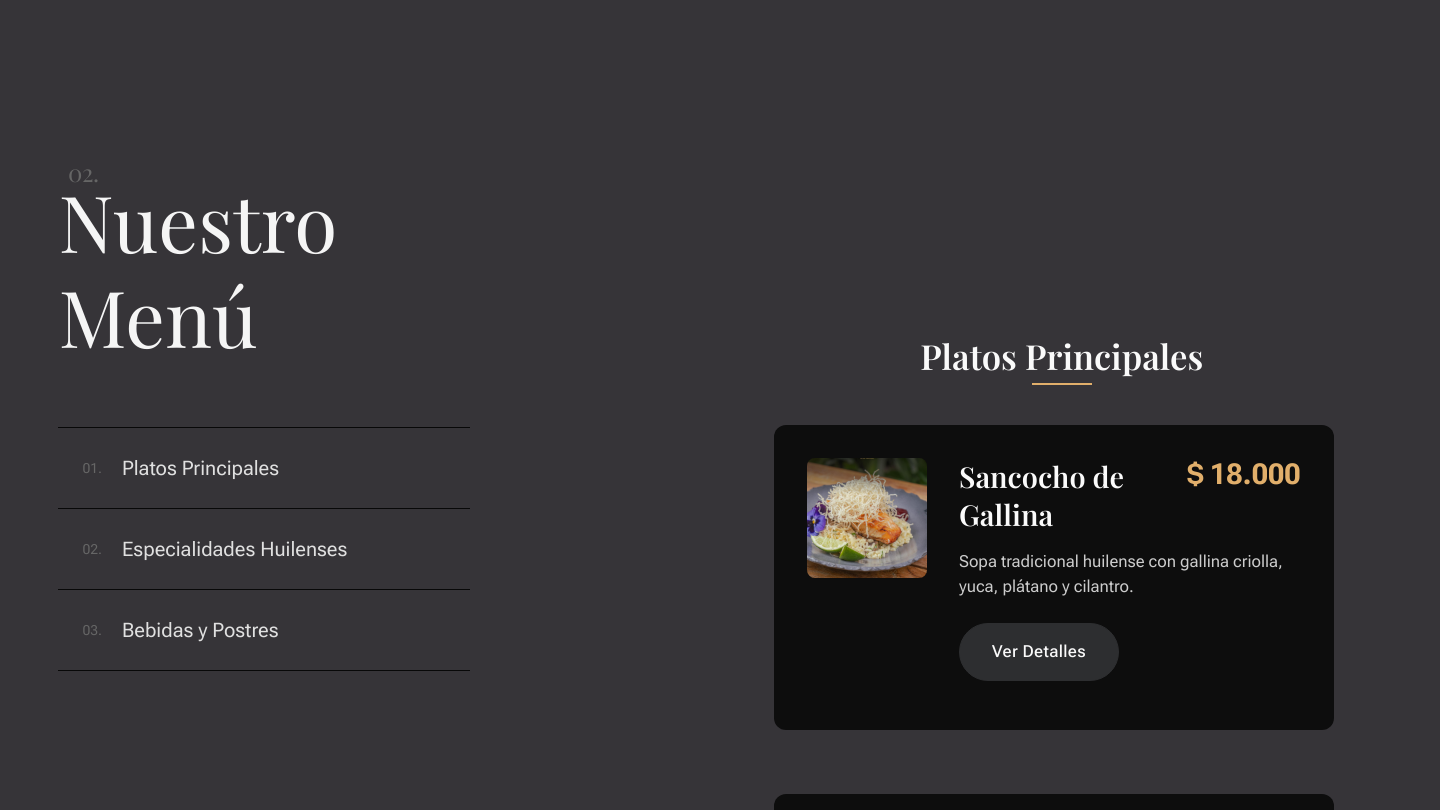
Menu Component › opens modal when clicking Ver Detalles
The image size is (1440, 810).
Step 1. Click the button "Ver Detalles" → (1039, 652), box x1=959 y1=623 x2=1119 y2=681
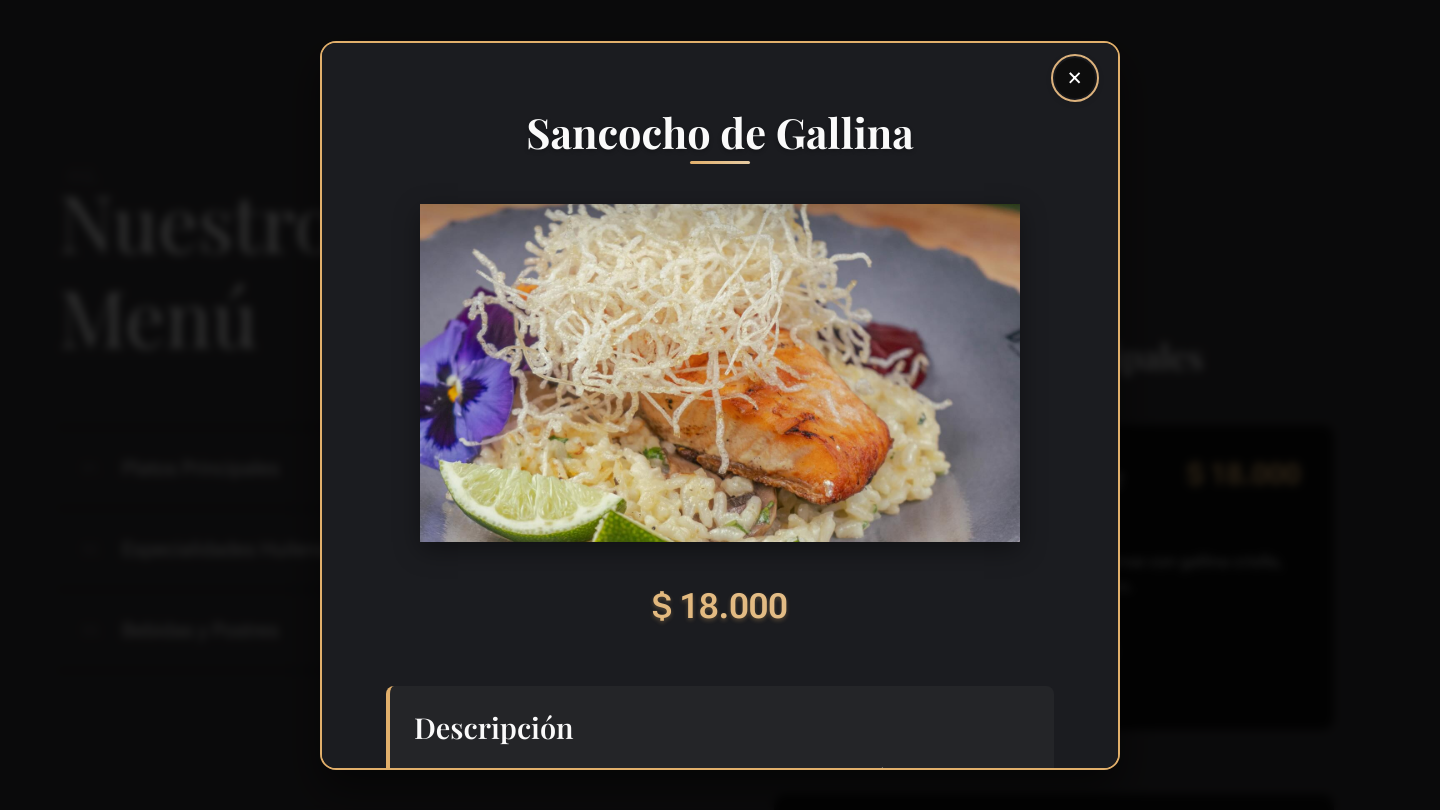
Now the element with class "modal-overlay" is shown
